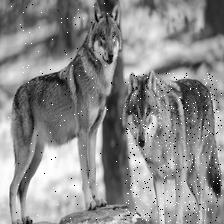WOLF: (8, 3, 121, 224), (125, 72, 222, 223)
